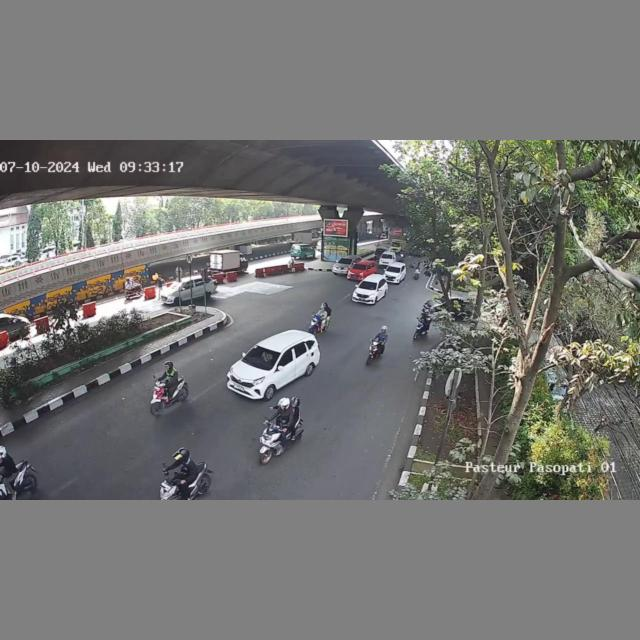windshield: (243, 344, 282, 370), (359, 281, 378, 290), (352, 263, 367, 270), (385, 266, 401, 272), (338, 257, 352, 263)
